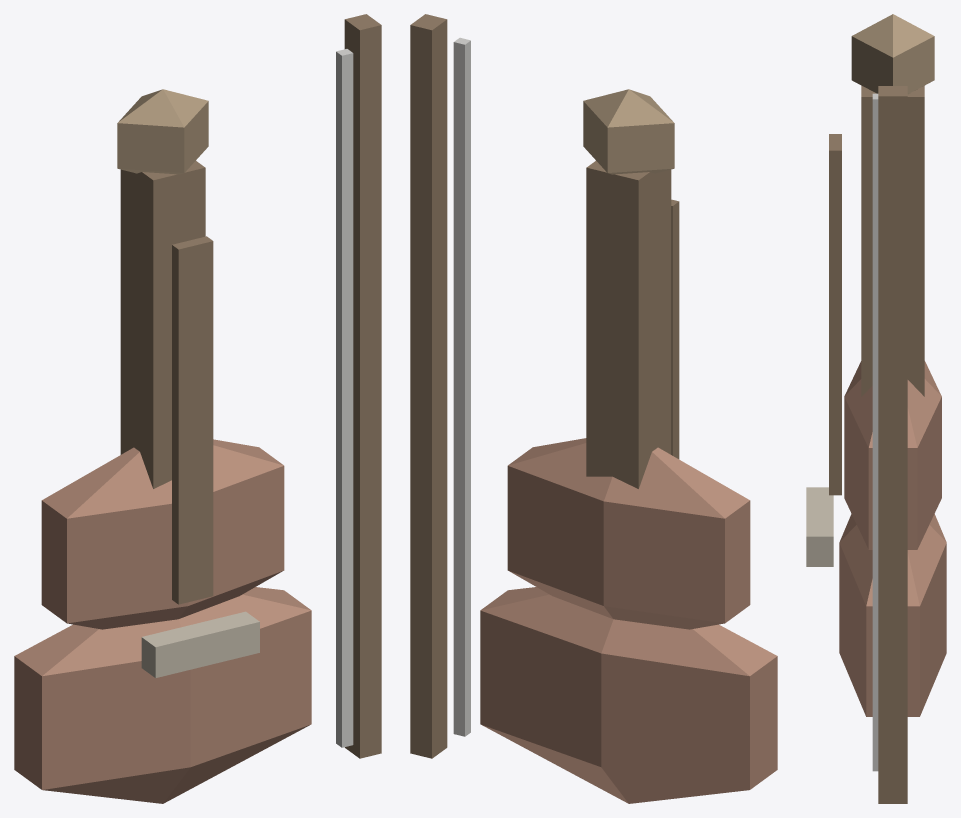
File: fiddle.glb
3 views of the same model, side by side, from view 1: azimuth 30°, elevation 25°; view 2: azimuth 150°, elevation 25°; view 3: azimuth 270°, elevation 25° (orthographic). The views are drawn at different scales.
Parts seen in each view (by area): view 1: fiddle; view 2: fiddle; view 3: fiddle.
Part boxes in pixels (box(x1,y1,x2,y2)): fiddle: box(14, 14, 381, 803); fiddle: box(410, 14, 777, 803); fiddle: box(806, 14, 946, 803).
Bounding box in the file's own units: 0.1325 × 0.2683 × 0.048.
